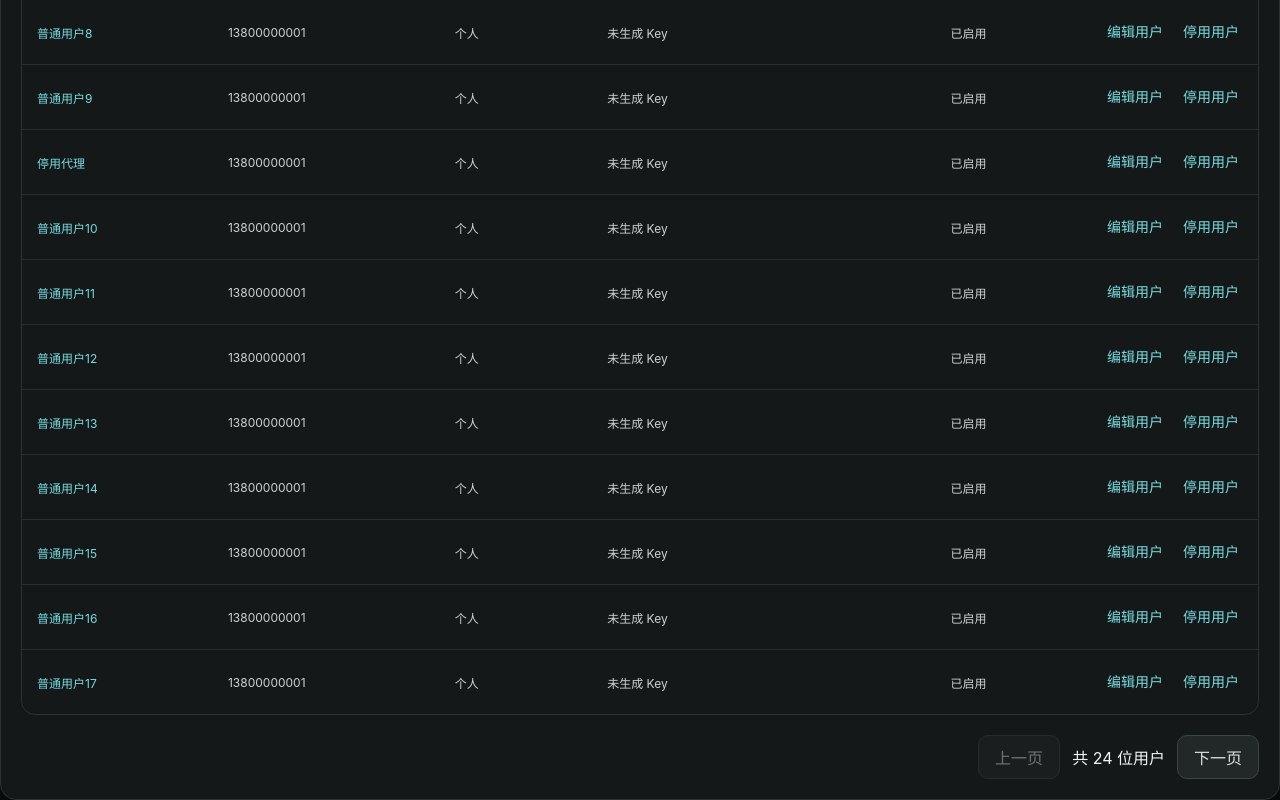
includes enabled and disabled agents when counting and paging users
(page scrolled)
Click the button "下一页": (1218, 757) [1177,735,1259,779]
(page scrolled)
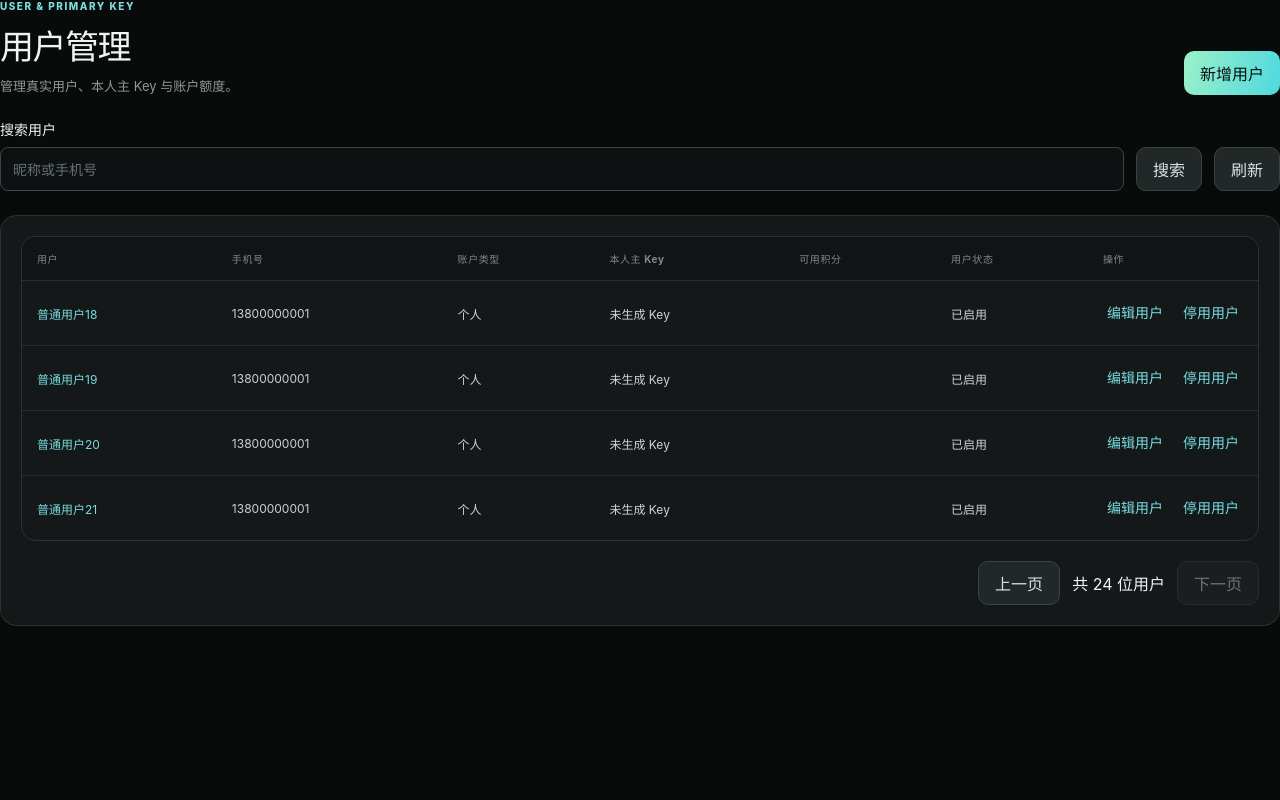
Check: the text "普通用户21" is shown, box [37,502,97,516]
